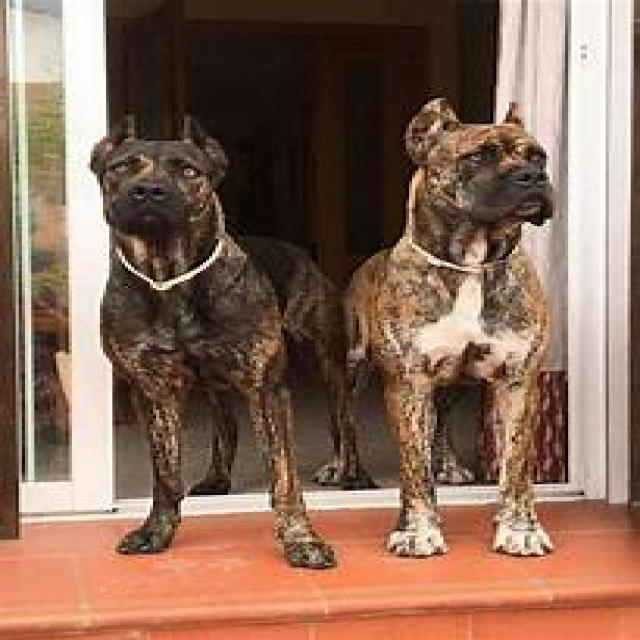dog: (90, 129, 346, 568), (346, 99, 552, 556)
